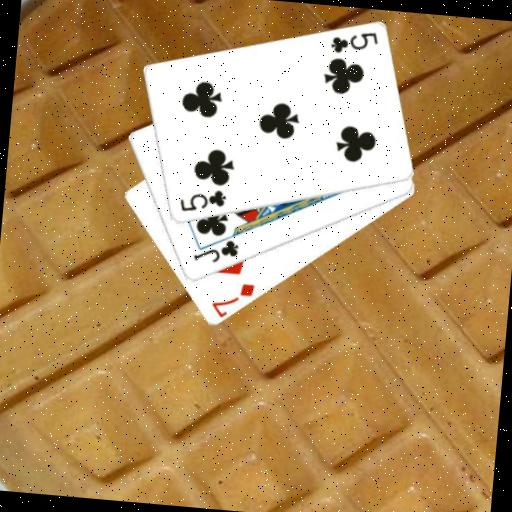5C: (326, 25, 380, 58), (176, 184, 229, 217)
7D: (207, 278, 257, 321)
JC: (190, 234, 241, 267)
